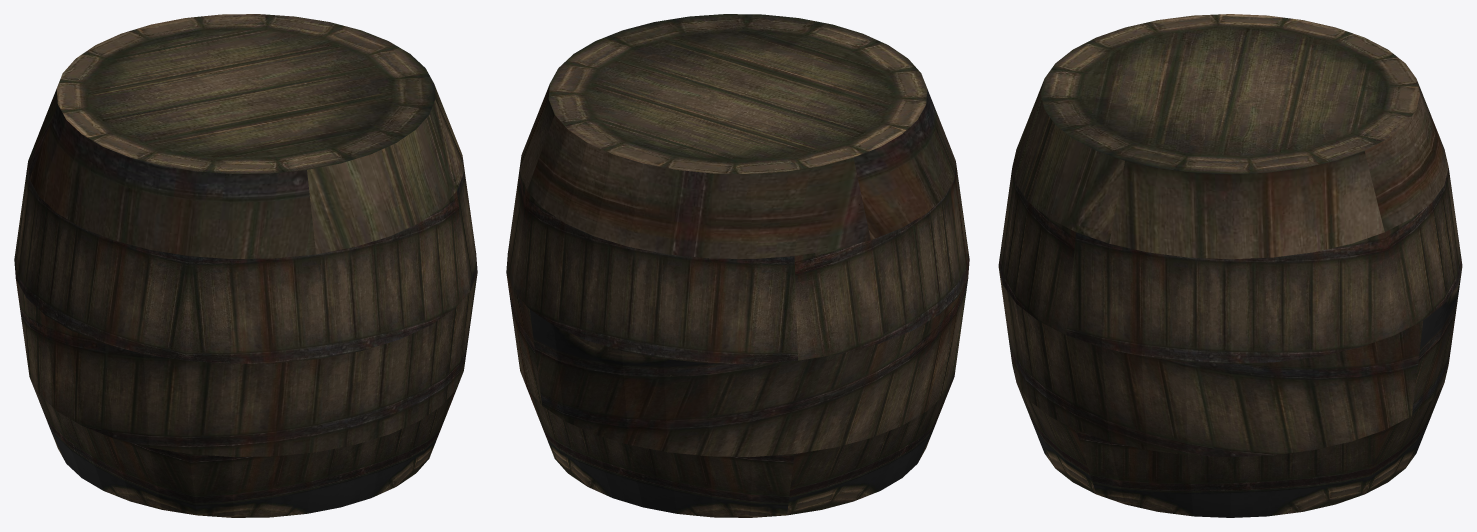
The picture shows the model from 3 angles, left to right: view 1: azimuth 30°, elevation 25°; view 2: azimuth 150°, elevation 25°; view 3: azimuth 270°, elevation 25°; orthographic projection.
Parts seen in each view (by area): view 1: Cylinder; view 2: Cylinder; view 3: Cylinder.
Boxes of the visible parts, bbox=[...] form: Cylinder: bbox=[14, 14, 477, 517]; Cylinder: bbox=[506, 14, 969, 517]; Cylinder: bbox=[998, 14, 1462, 517].
Size of the model in its own units: 288 by 236 by 288.
1 material, 1 textured.
